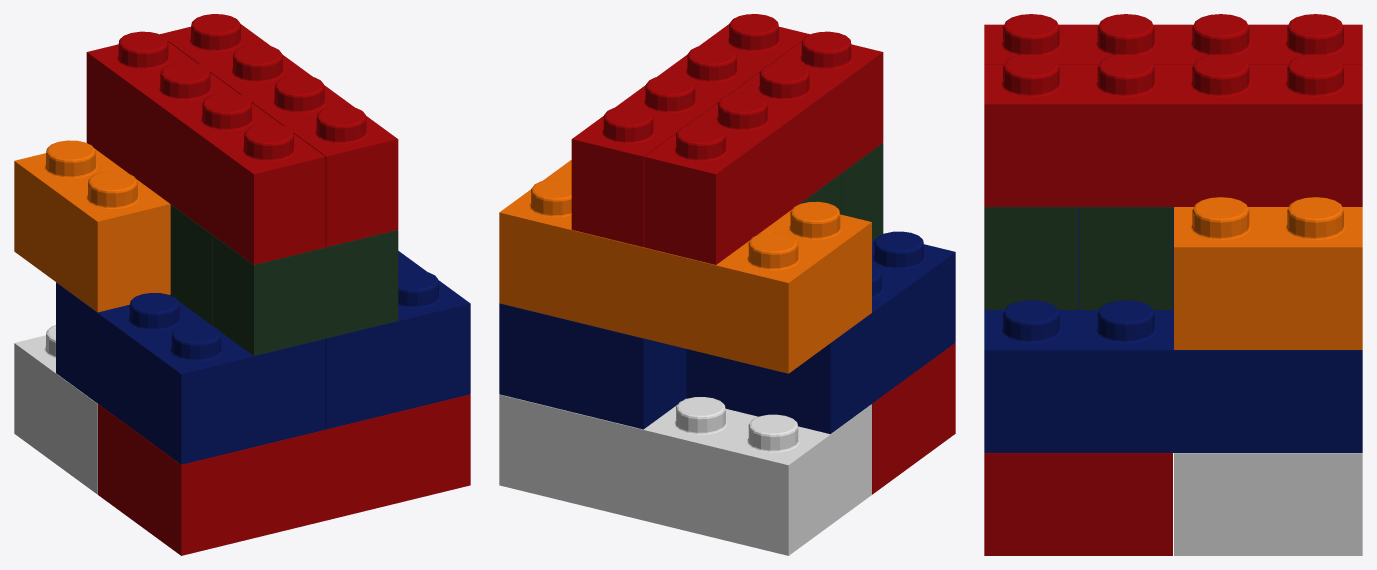
Rendered from mod3.dae.
3 views of the same model, side by side, from view 1: azimuth 30°, elevation 25°; view 2: azimuth 150°, elevation 25°; view 3: azimuth 270°, elevation 25° (orthographic). The views are drawn at different scales.
Parts seen in each view (by area): view 1: Part.1, Part.8, Part.4, Part.3, Part.7, Part.5, Part.2, Part.0, Part.6; view 2: Part.3, Part.0, Part.8, Part.4, Part.7, Part.2, Part.1, Part.5, Part.6; view 3: Part.7, Part.2, Part.3, Part.0, Part.1, Part.8, Part.5, Part.6.
Boxes of the visible parts, box(x1,y1,x2,y2) form: Part.1: box(98, 394, 470, 555); Part.8: box(86, 31, 325, 264); Part.4: box(56, 282, 325, 464); Part.3: box(14, 140, 170, 312); Part.7: box(160, 14, 398, 247); Part.5: box(212, 230, 398, 355); Part.2: box(325, 251, 470, 429); Part.0: box(14, 325, 97, 494); Part.6: box(170, 204, 212, 324); Part.3: box(499, 160, 871, 373); Part.0: box(499, 394, 871, 555); Part.8: box(644, 31, 883, 264); Part.4: box(686, 231, 955, 434); Part.7: box(571, 14, 809, 247); Part.2: box(499, 303, 686, 429); Part.1: box(872, 343, 955, 494); Part.5: box(841, 143, 883, 241); Part.6: box(800, 174, 841, 214); Part.7: box(984, 54, 1362, 206); Part.2: box(984, 270, 1362, 452); Part.3: box(1174, 197, 1362, 349); Part.0: box(1174, 453, 1362, 555); Part.1: box(984, 453, 1172, 555); Part.8: box(984, 14, 1362, 64); Part.5: box(984, 207, 1078, 309); Part.6: box(1079, 207, 1172, 309).
Bounding box in the file's own units: 31.92 × 40.18 × 31.92.
